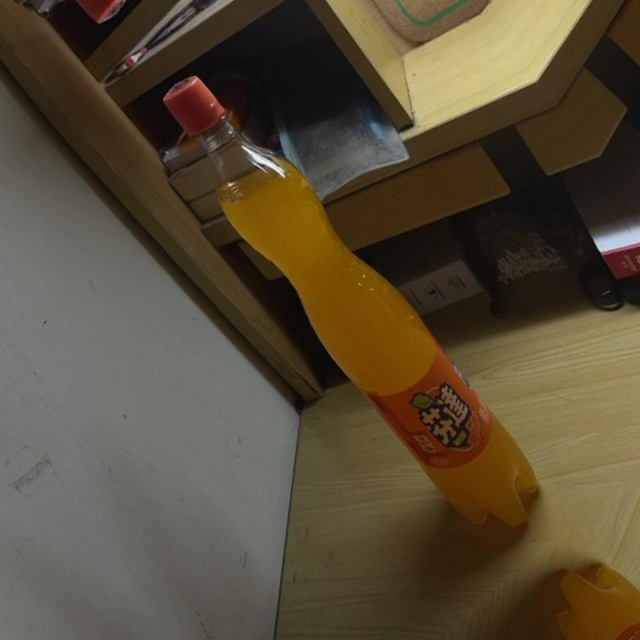Fanta: (131, 60, 570, 555)
